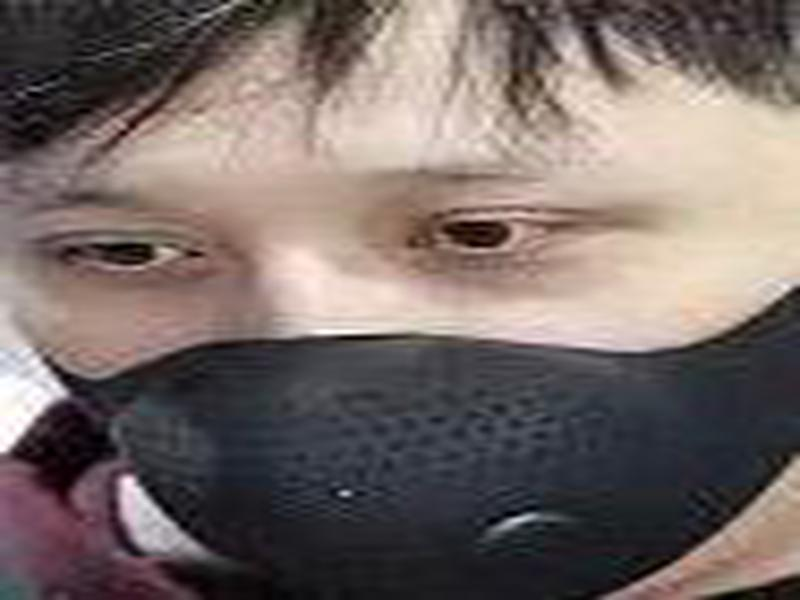with_mask: (1, 5, 795, 600)
